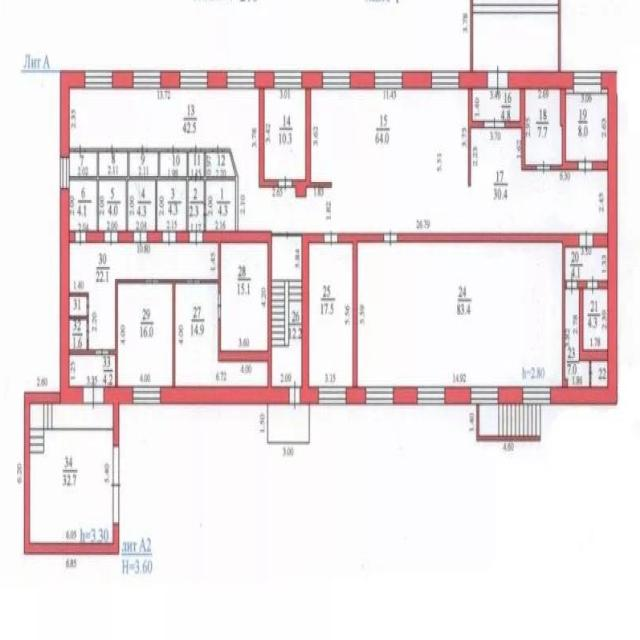Corridors: (69, 243, 218, 349), (30, 457, 112, 542), (473, 20, 557, 71), (566, 290, 588, 386), (268, 405, 309, 444), (207, 181, 235, 230), (158, 181, 186, 230), (584, 289, 607, 348), (473, 90, 519, 119), (70, 356, 114, 386), (128, 182, 154, 231), (99, 181, 125, 230), (70, 181, 96, 230), (566, 248, 607, 279), (189, 181, 203, 230), (207, 153, 235, 176), (70, 154, 96, 175), (160, 154, 186, 175), (99, 154, 126, 174), (130, 154, 157, 174), (69, 320, 86, 348), (591, 361, 608, 386), (189, 153, 204, 175), (70, 297, 86, 314)
Doors: (109, 445, 123, 523), (83, 376, 104, 410), (487, 64, 509, 96), (272, 229, 302, 242), (579, 228, 593, 254), (289, 379, 300, 412), (484, 116, 505, 133), (578, 154, 593, 177), (565, 271, 578, 297), (133, 230, 147, 254), (190, 222, 202, 250), (383, 227, 397, 250), (278, 173, 292, 195), (324, 227, 338, 248), (536, 158, 550, 177), (104, 230, 118, 248), (75, 225, 85, 249), (586, 275, 598, 295), (162, 230, 175, 247), (212, 141, 224, 157), (166, 143, 179, 157), (106, 142, 118, 157), (137, 142, 148, 158), (74, 142, 85, 157), (190, 139, 200, 153), (204, 203, 210, 226), (217, 291, 221, 321), (95, 349, 108, 356), (144, 278, 159, 284), (190, 176, 201, 184), (187, 279, 201, 285), (588, 361, 591, 386), (86, 298, 89, 316), (87, 321, 89, 341)
LBwalls: (24, 189, 119, 556), (550, 70, 617, 406), (299, 232, 324, 405), (160, 387, 290, 405), (60, 71, 85, 158), (258, 88, 279, 187), (292, 88, 311, 197), (104, 386, 133, 445), (508, 70, 574, 91), (202, 231, 272, 243), (219, 350, 268, 362), (402, 71, 431, 90), (459, 71, 488, 89), (445, 386, 471, 405), (350, 71, 375, 90), (393, 386, 418, 405), (498, 386, 523, 404), (208, 69, 227, 89), (302, 71, 322, 90), (346, 386, 366, 405), (113, 70, 133, 88), (160, 70, 180, 88), (255, 71, 273, 89), (86, 230, 104, 244), (563, 232, 579, 247), (560, 88, 566, 126), (519, 90, 525, 128), (593, 233, 608, 247), (118, 230, 133, 243), (147, 230, 162, 242), (176, 230, 190, 242), (69, 232, 76, 243)
Offices: (70, 89, 608, 232), (358, 243, 562, 385), (175, 285, 267, 386), (309, 243, 352, 386), (118, 284, 172, 386), (221, 244, 267, 350), (264, 89, 305, 179), (567, 91, 608, 159), (525, 90, 561, 163)
Stairs: (29, 404, 113, 456), (272, 238, 301, 386), (479, 405, 541, 436), (473, 0, 558, 20)
Walls: (338, 233, 384, 387), (108, 278, 144, 387), (199, 147, 238, 231), (158, 279, 187, 388), (476, 405, 541, 442), (468, 88, 484, 186), (397, 233, 562, 242), (550, 126, 578, 170), (201, 242, 221, 291), (562, 246, 568, 386), (577, 279, 587, 351), (521, 127, 537, 171), (84, 147, 107, 177), (117, 147, 138, 177), (267, 243, 271, 387), (148, 147, 167, 176), (69, 176, 190, 180), (69, 341, 96, 355), (178, 147, 191, 174), (470, 0, 473, 71), (558, 0, 561, 71), (593, 160, 608, 170), (96, 181, 99, 231), (155, 181, 158, 231), (186, 181, 189, 231), (69, 291, 89, 298), (312, 182, 332, 188), (505, 120, 519, 128), (126, 181, 128, 231), (597, 281, 608, 289), (218, 321, 221, 349), (69, 316, 89, 320), (69, 147, 75, 153), (204, 225, 206, 231)
Windows: (573, 71, 602, 92), (132, 386, 160, 405), (365, 386, 393, 405), (522, 386, 550, 405), (374, 71, 403, 89), (132, 70, 161, 88), (319, 387, 346, 406), (418, 387, 445, 406), (471, 386, 498, 405), (431, 71, 459, 89), (322, 71, 350, 89), (274, 72, 302, 90), (227, 71, 255, 89), (180, 71, 208, 89), (84, 71, 112, 89), (60, 157, 69, 189)
